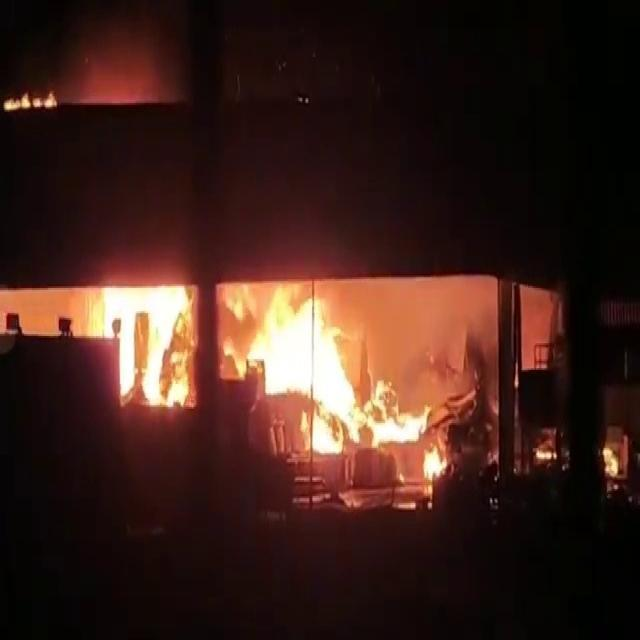Fire: (118, 291, 189, 409), (264, 309, 352, 401)
